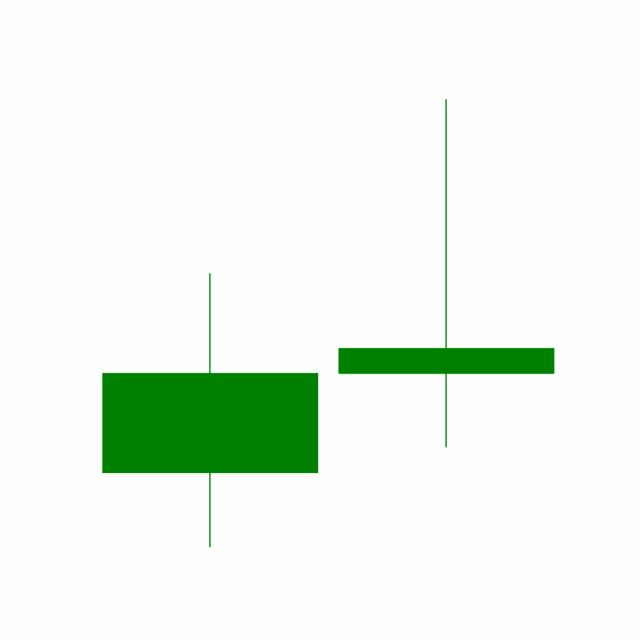Spinning Top: (327, 95, 565, 451)
